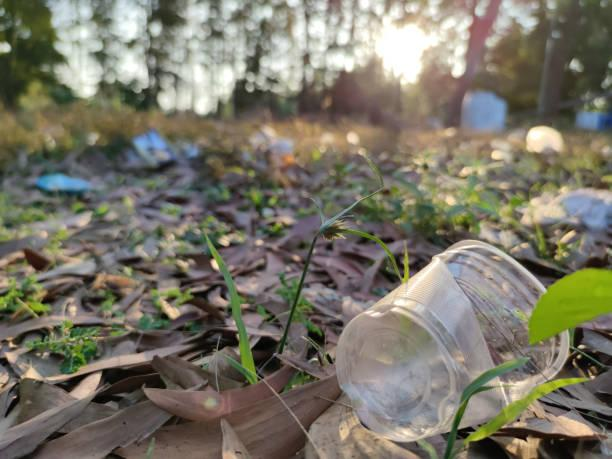trash: (329, 222, 575, 445)
